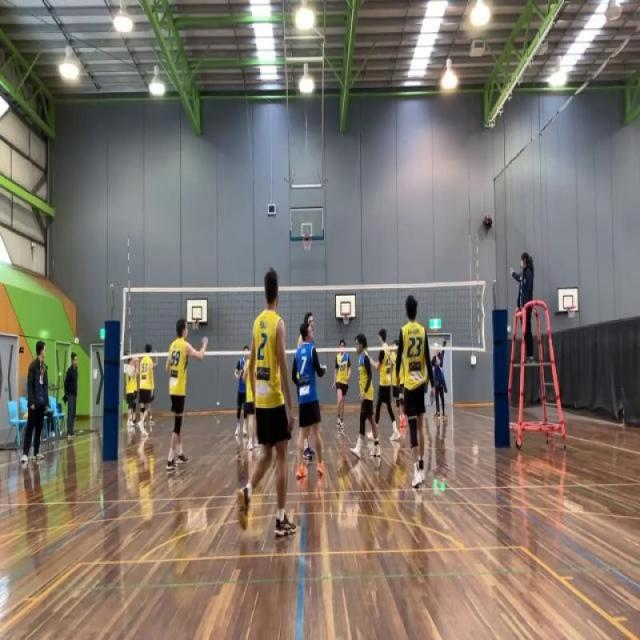volleyball: (296, 370, 300, 382)
